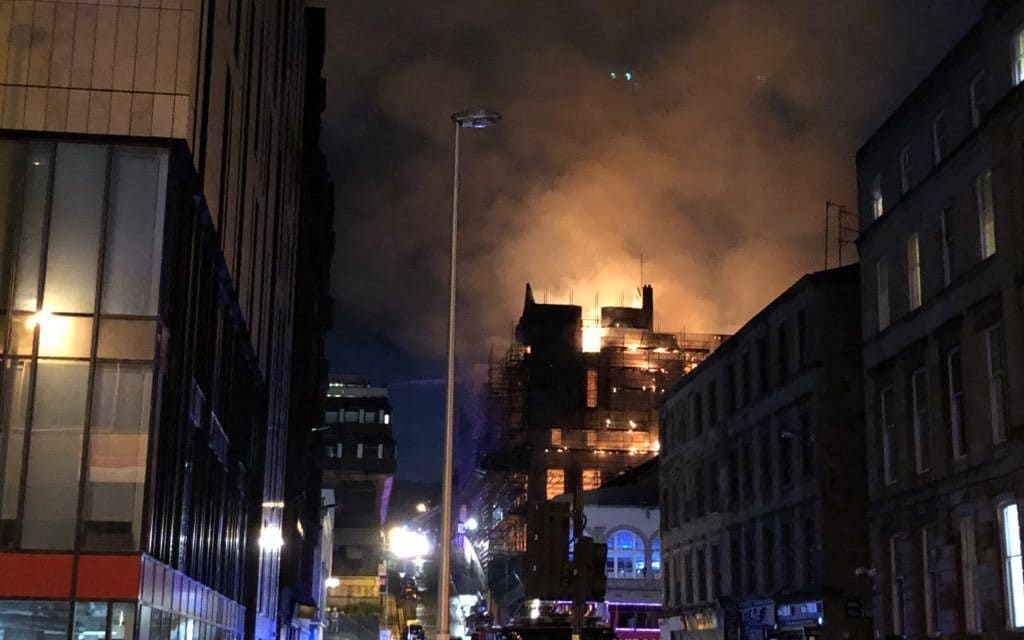Fire: (554, 271, 631, 307)
